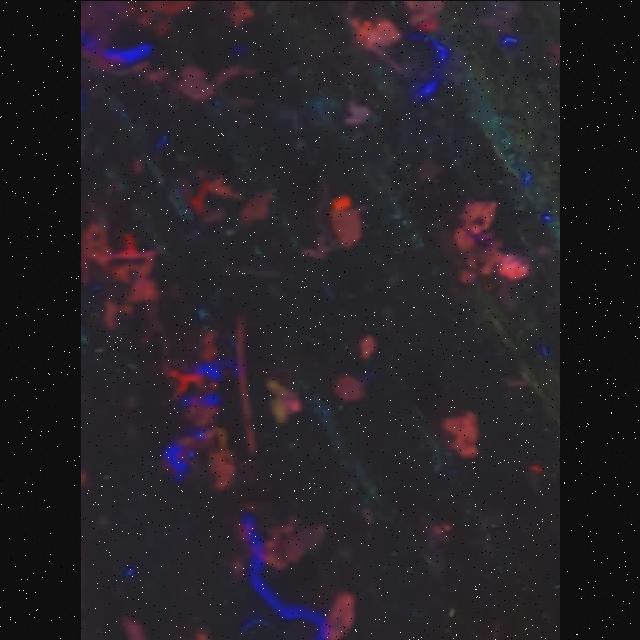Fragment: (454, 198, 536, 288), (441, 412, 482, 458)
